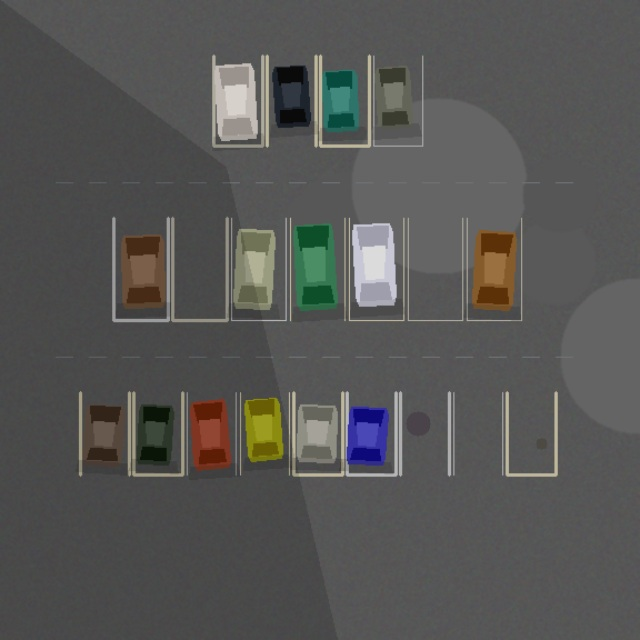space-empty: (172, 218, 227, 320), (408, 218, 462, 320), (400, 392, 449, 474), (453, 392, 502, 474), (507, 392, 556, 474)
space-occupied: (113, 218, 168, 320), (231, 218, 286, 320), (290, 218, 344, 320), (349, 218, 403, 320), (467, 218, 521, 320), (213, 56, 262, 146), (267, 56, 316, 146), (320, 56, 369, 146), (373, 56, 422, 146), (80, 392, 129, 474), (133, 392, 182, 474), (187, 392, 236, 474), (240, 392, 289, 474), (293, 392, 342, 474), (347, 392, 396, 474)
